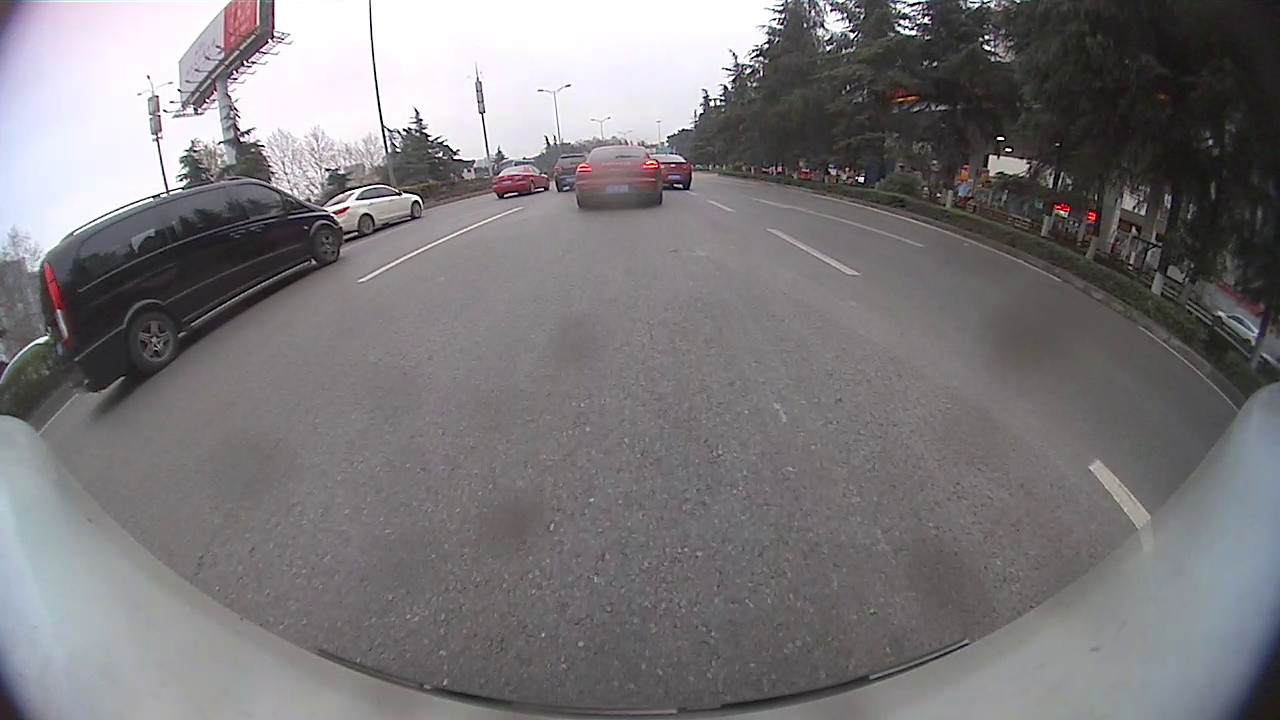car: (35, 177, 343, 391), (324, 176, 427, 237), (572, 142, 664, 206), (496, 163, 554, 198), (654, 152, 692, 190), (557, 151, 593, 190)
front: (308, 219, 344, 267), (410, 200, 423, 221)
rear: (125, 309, 184, 378), (356, 214, 376, 237), (526, 181, 537, 197)
